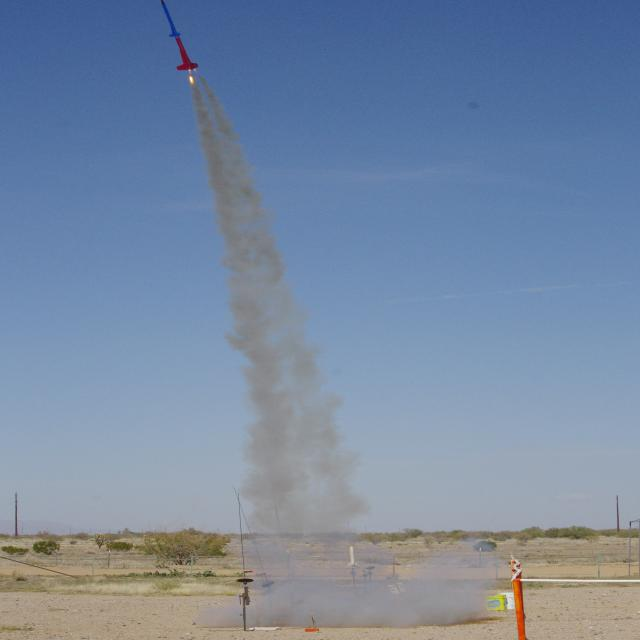Rocket: (159, 0, 199, 72), (348, 546, 358, 567)
